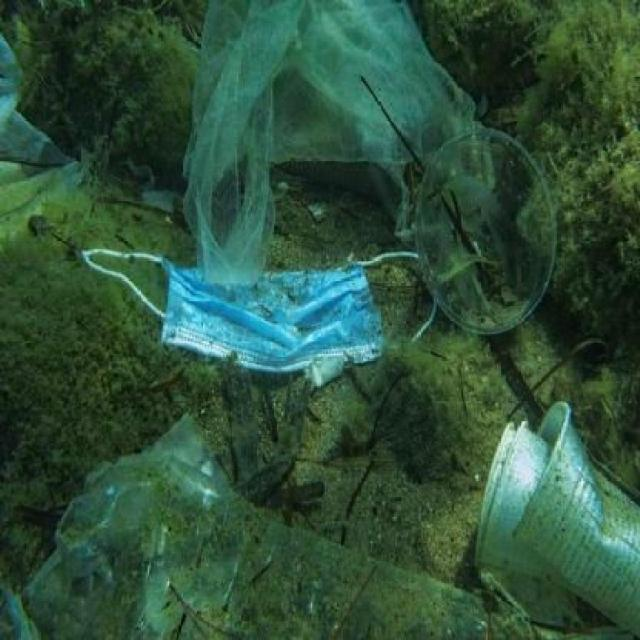Mask: (77, 238, 443, 373)
